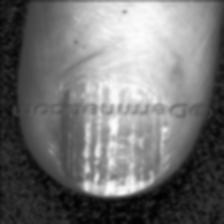Toxin: (60, 76, 162, 190)
